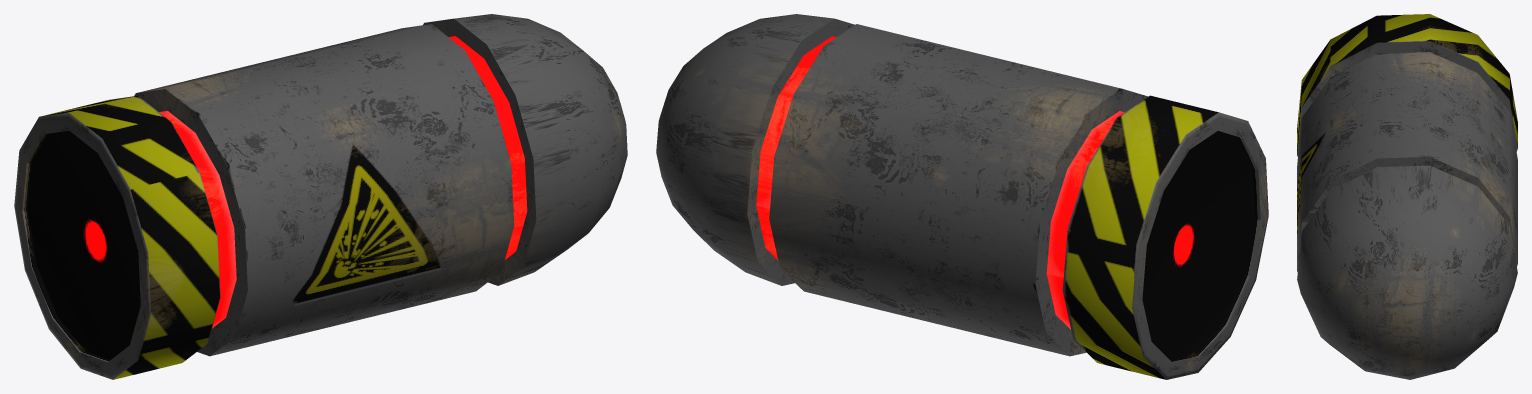
The model's file is grenade_launcher_projectile_downloadable.glb.
The picture shows the model from 3 angles, left to right: view 1: azimuth 30°, elevation 25°; view 2: azimuth 150°, elevation 25°; view 3: azimuth 270°, elevation 25°; orthographic projection. The views are drawn at different scales.
Visible parts, largest first — view 1: Projectile_BULLET_0; view 2: Projectile_BULLET_0; view 3: Projectile_BULLET_0.
Part boxes in pixels (box(x1,y1,x2,y2)): Projectile_BULLET_0: box(14, 14, 627, 379); Projectile_BULLET_0: box(656, 14, 1268, 379); Projectile_BULLET_0: box(1297, 14, 1517, 379).
Bounding box in the file's own units: 0.1847 × 0.0822 × 0.0824.
1 material, 1 textured.
